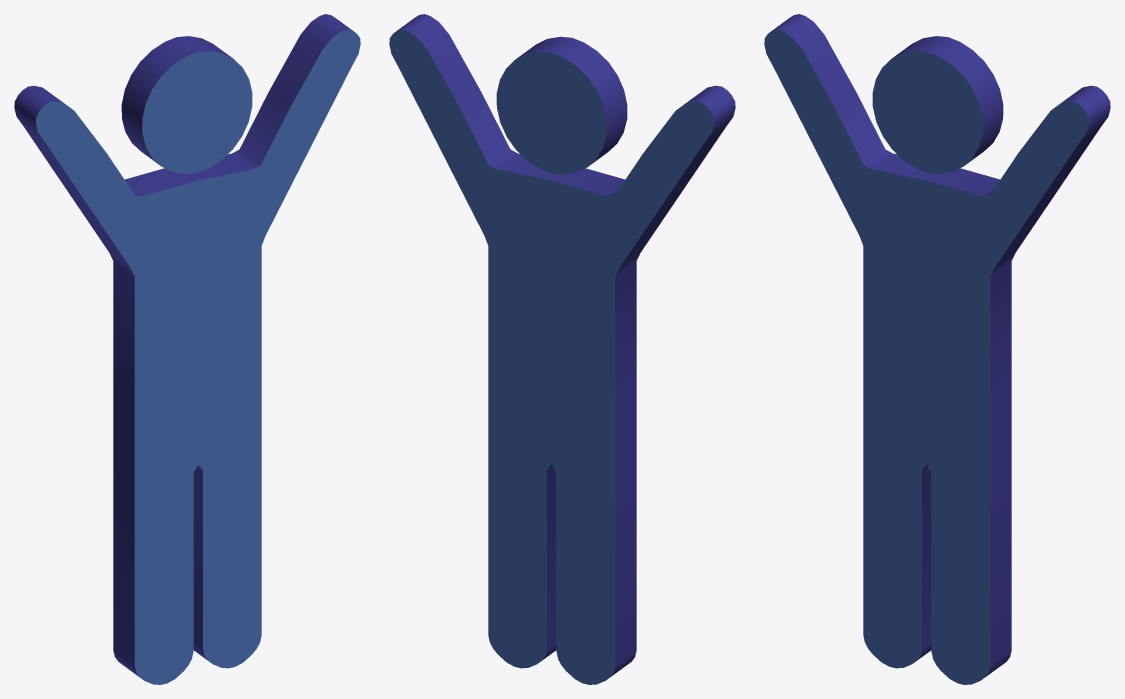
Rendered from Male Dummy Up.fbx.
3 views of the same model, side by side, from view 1: azimuth 30°, elevation 25°; view 2: azimuth 150°, elevation 25°; view 3: azimuth 330°, elevation 25° (orthographic).
Parts seen in each view (by area): view 1: Male Dummy Up; view 2: Male Dummy Up; view 3: Male Dummy Up.
Boxes of the visible parts, x1=… form: Male Dummy Up: x1=14, y1=14, x2=360, y2=684; Male Dummy Up: x1=389, y1=14, x2=735, y2=684; Male Dummy Up: x1=764, y1=14, x2=1110, y2=684.
Bounding box in the file's own units: 108 × 199 × 12.44.
